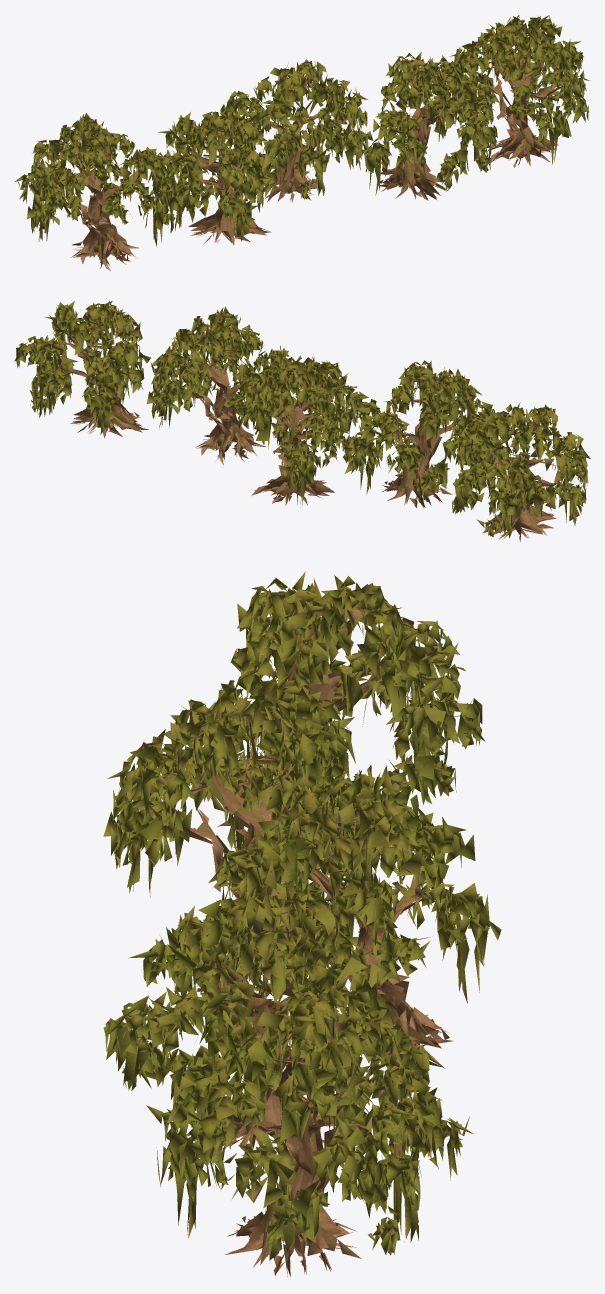
The model's file is willow-thicket.glb.
3 views of the same model, one above another, from view 1: azimuth 30°, elevation 25°; view 2: azimuth 150°, elevation 25°; view 3: azimuth 270°, elevation 25° (orthographic). The views are drawn at different scales.
Visible parts, largest first — view 1: 0_willow-forest_LOD0, 3_willow-forest_LOD0, 4_willow-forest_LOD0, 1_willow-forest_LOD0, 2_willow-forest_LOD0; view 2: 0_willow-forest_LOD0, 2_willow-forest_LOD0, 4_willow-forest_LOD0, 1_willow-forest_LOD0, 3_willow-forest_LOD0; view 3: 4_willow-forest_LOD0, 3_willow-forest_LOD0, 2_willow-forest_LOD0, 1_willow-forest_LOD0, 0_willow-forest_LOD0.
Part boxes in pixels (x1,y1,x2,y2): 0_willow-forest_LOD0: (14, 112, 169, 270); 3_willow-forest_LOD0: (358, 51, 499, 200); 4_willow-forest_LOD0: (449, 15, 590, 167); 1_willow-forest_LOD0: (136, 107, 278, 245); 2_willow-forest_LOD0: (220, 59, 373, 202); 0_willow-forest_LOD0: (451, 402, 590, 541); 2_willow-forest_LOD0: (235, 355, 380, 507); 4_willow-forest_LOD0: (14, 300, 150, 438); 1_willow-forest_LOD0: (353, 360, 495, 508); 3_willow-forest_LOD0: (146, 306, 296, 465); 4_willow-forest_LOD0: (156, 984, 473, 1276); 3_willow-forest_LOD0: (103, 883, 391, 1149); 2_willow-forest_LOD0: (208, 776, 501, 1067); 1_willow-forest_LOD0: (103, 671, 399, 982); 0_willow-forest_LOD0: (216, 571, 485, 854).
Size of what is drawn, in the model's own units: 4.72 by 1.03 by 1.45.
Materials: 1 (1 with a texture image).
